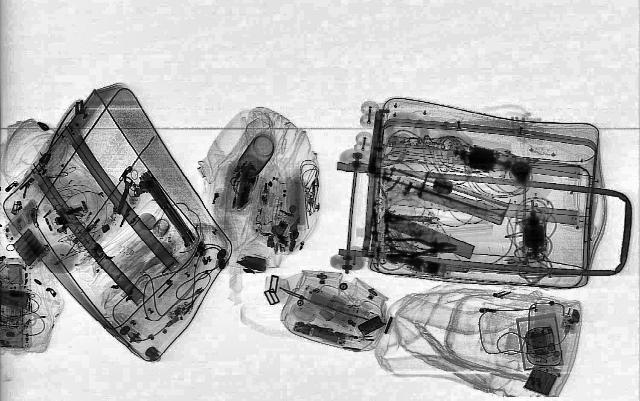Pliers: (384, 237, 460, 257)
